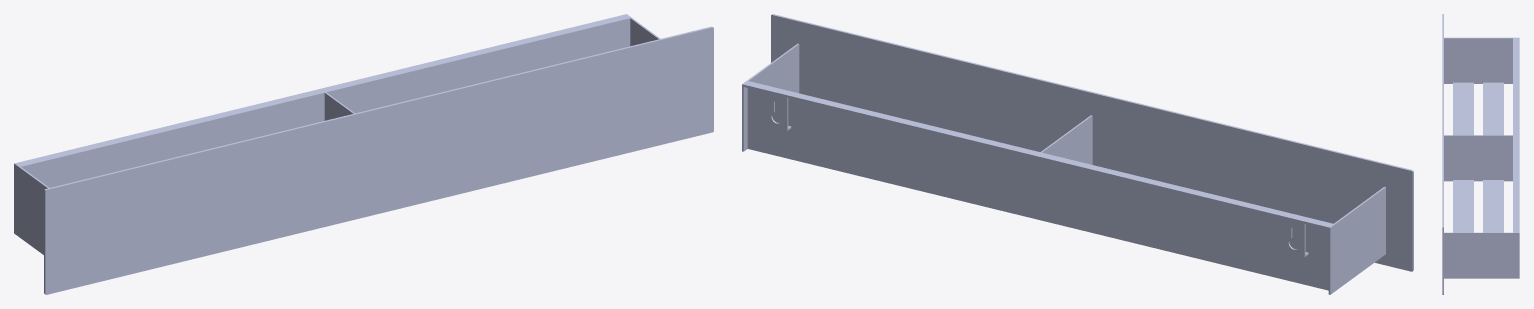
File: skyline-mono.5914b09ac2.glb
The picture shows the model from 3 angles, left to right: view 1: azimuth 30°, elevation 25°; view 2: azimuth 150°, elevation 25°; view 3: azimuth 270°, elevation 25°; orthographic projection. The views are drawn at different scales.
Parts seen in each view (by area): view 1: NAUO1; view 2: NAUO1; view 3: NAUO1.
Part boxes in pixels (x1,y1,x2,y2): NAUO1: (14,14,713,294); NAUO1: (742,14,1413,294); NAUO1: (1442,14,1519,294).
Size of the model in its own units: 0.6 by 0.09 by 0.092.
